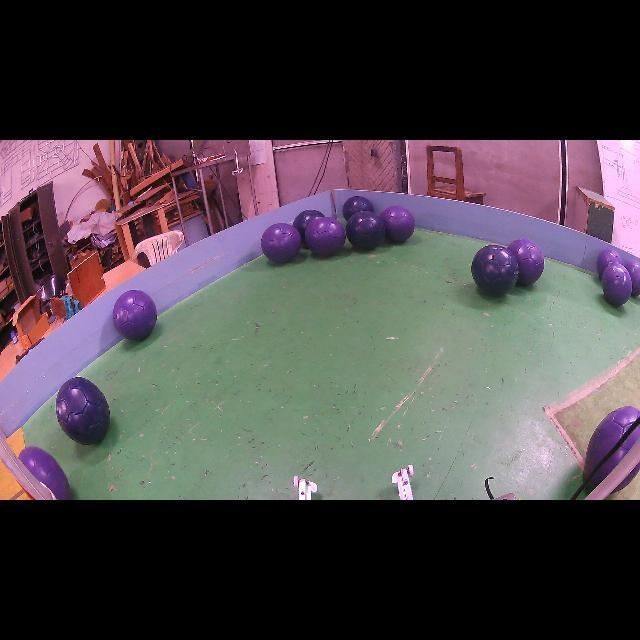P: (582, 406, 640, 479), (586, 425, 640, 490), (112, 290, 158, 340), (508, 239, 544, 286), (305, 216, 346, 256), (261, 222, 301, 262), (601, 262, 632, 306), (380, 206, 415, 242), (596, 249, 622, 280), (612, 464, 640, 492), (625, 260, 640, 296)
